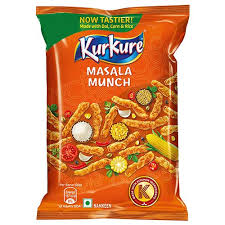kurkure: (73, 33, 145, 63)
plastic: (33, 4, 198, 224)
wrapper: (34, 5, 194, 223)
